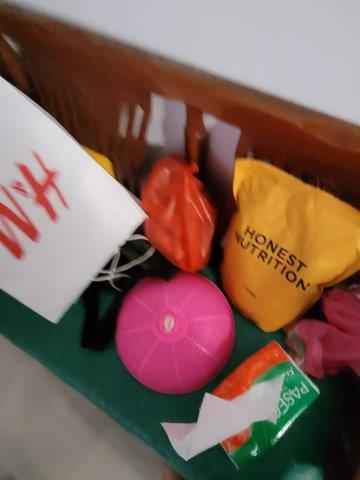plastik: (142, 161, 213, 269)
